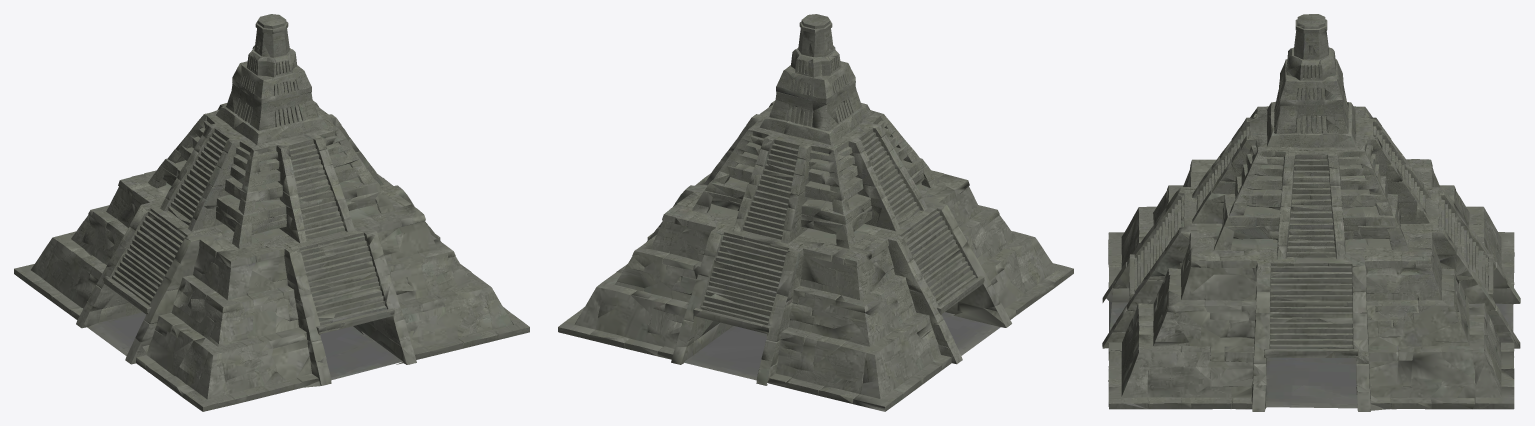
The model's file is massassi.lod1.glb.
The picture shows the model from 3 angles, left to right: view 1: azimuth 30°, elevation 25°; view 2: azimuth 150°, elevation 25°; view 3: azimuth 270°, elevation 25°; orthographic projection. The views are drawn at different scales.
Parts seen in each view (by area): view 1: massassi; view 2: massassi; view 3: massassi.
Boxes of the visible parts, x1,y1,x2,y2 form: massassi: (14,14,529,411); massassi: (558,14,1073,411); massassi: (1102,14,1520,411).
Bounding box in the file's own units: 95.98 × 77.05 × 96.
1 material, 1 textured.
